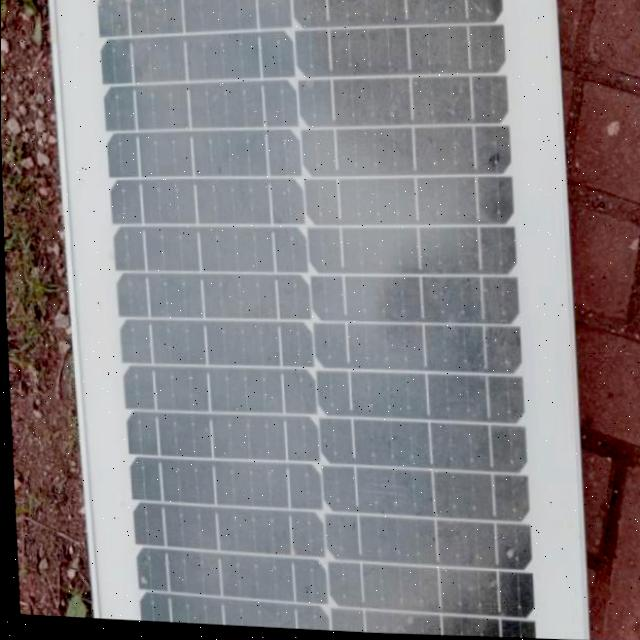Anomaly Solar Panel: (73, 0, 560, 640)
Surface Contaminant: (88, 0, 536, 639)
